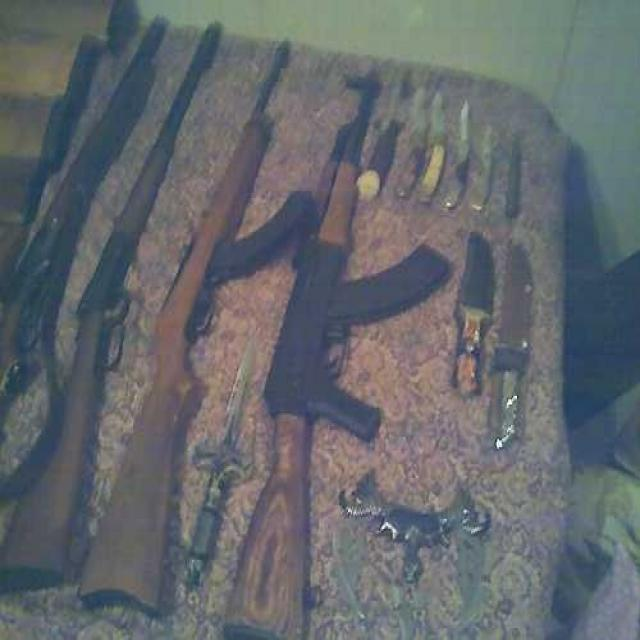weapon: (228, 58, 502, 640), (80, 27, 324, 640), (0, 1, 236, 602), (0, 9, 179, 438)
